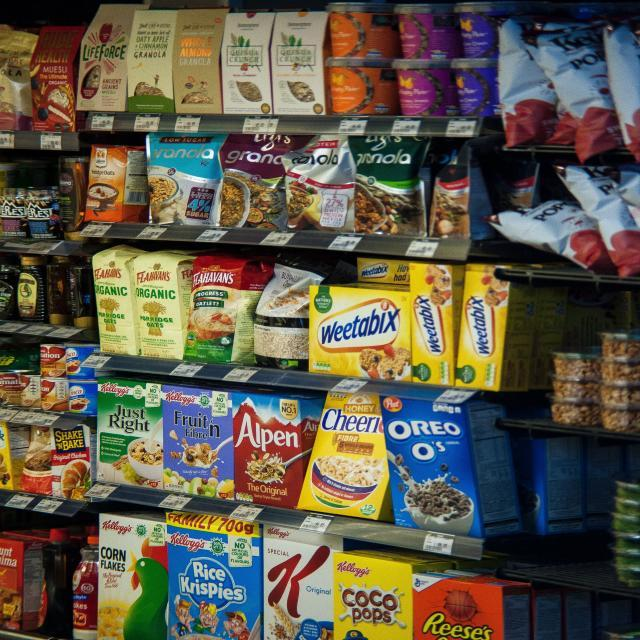Imprecise: (305, 254, 411, 378), (493, 193, 601, 264)
